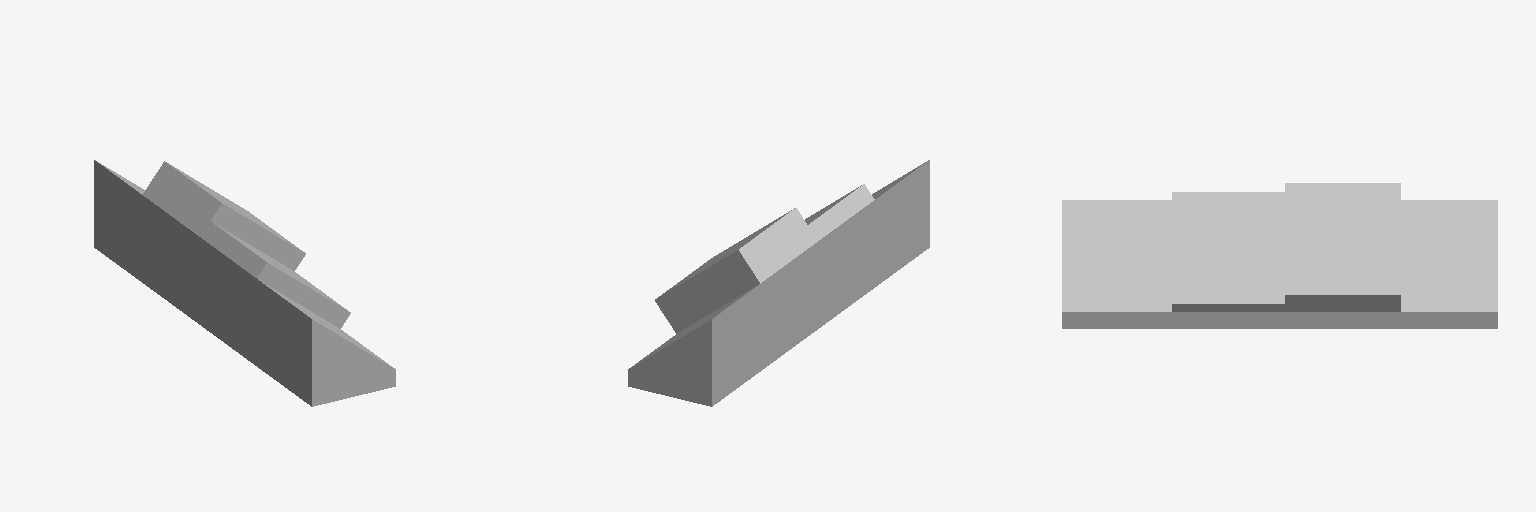
The model's file is SampleObject.obj.
The picture shows the model from 3 angles: view 1: azimuth 30°, elevation 25°; view 2: azimuth 150°, elevation 25°; view 3: azimuth 270°, elevation 25°; orthographic projection.
Visible parts, largest first — view 1: Cube1; view 2: Cube1; view 3: Cube1.
Part boxes in pixels (x1,y1,x2,y2): Cube1: (94,160,395,406); Cube1: (628,160,929,406); Cube1: (1062,183,1497,328).
Size of the model in its own units: 2.53 by 2.65 by 9.